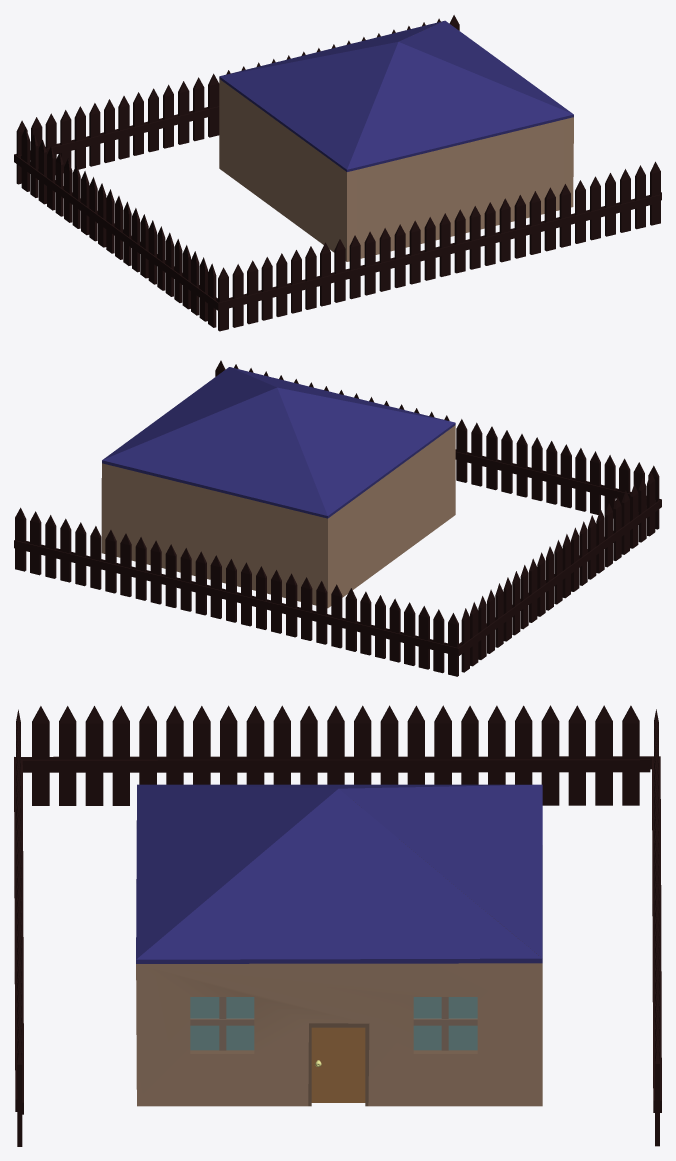
The model's file is House.fbx.
3 views of the same model, one above another, from view 1: azimuth 30°, elevation 25°; view 2: azimuth 150°, elevation 25°; view 3: azimuth 270°, elevation 25° (orthographic). The views are drawn at different scales.
Visible parts, largest first — view 1: House, Fence; view 2: House, Fence; view 3: House, Fence.
Part boxes in pixels (<box>): House: <box>219,20,573,261</box>; Fence: <box>14,15,661,331</box>; House: <box>101,367,455,608</box>; Fence: <box>14,360,661,676</box>; House: <box>136,784,542,1106</box>; Fence: <box>14,705,661,1146</box>.
Bounding box in the file's own units: 31.08 × 9.76 × 24.59.
